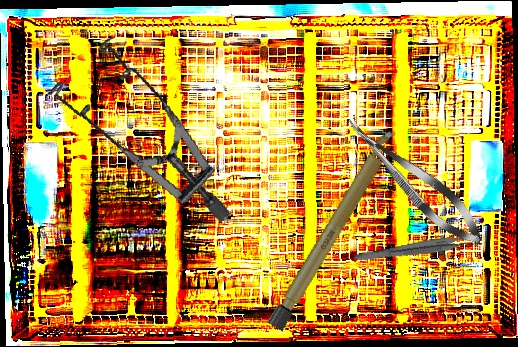Micro Scissor: (336, 106, 493, 256)
Scalpel Handle: (267, 126, 401, 333)
Speculum: (38, 21, 232, 250)
Tissue Forceps: (352, 231, 480, 269)
